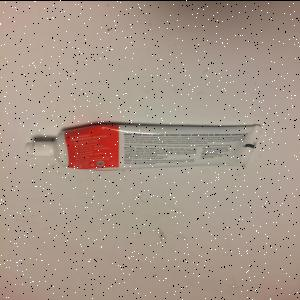Trash: (23, 124, 263, 173)
